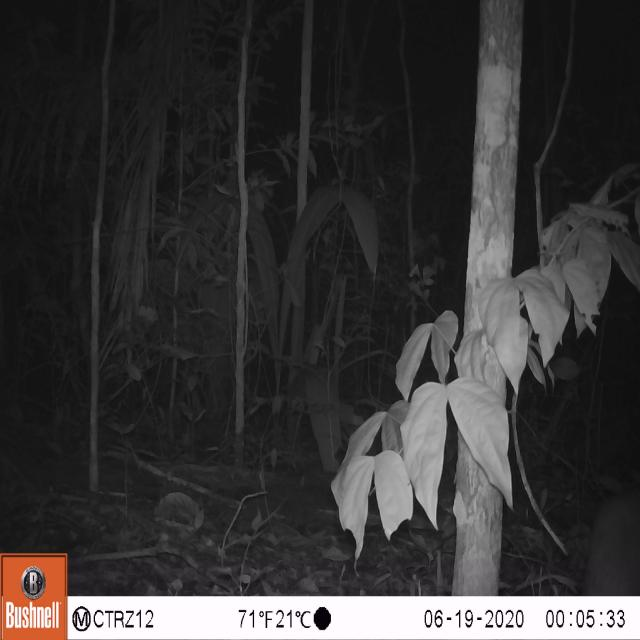Spotted Paca: (564, 462, 640, 599)
